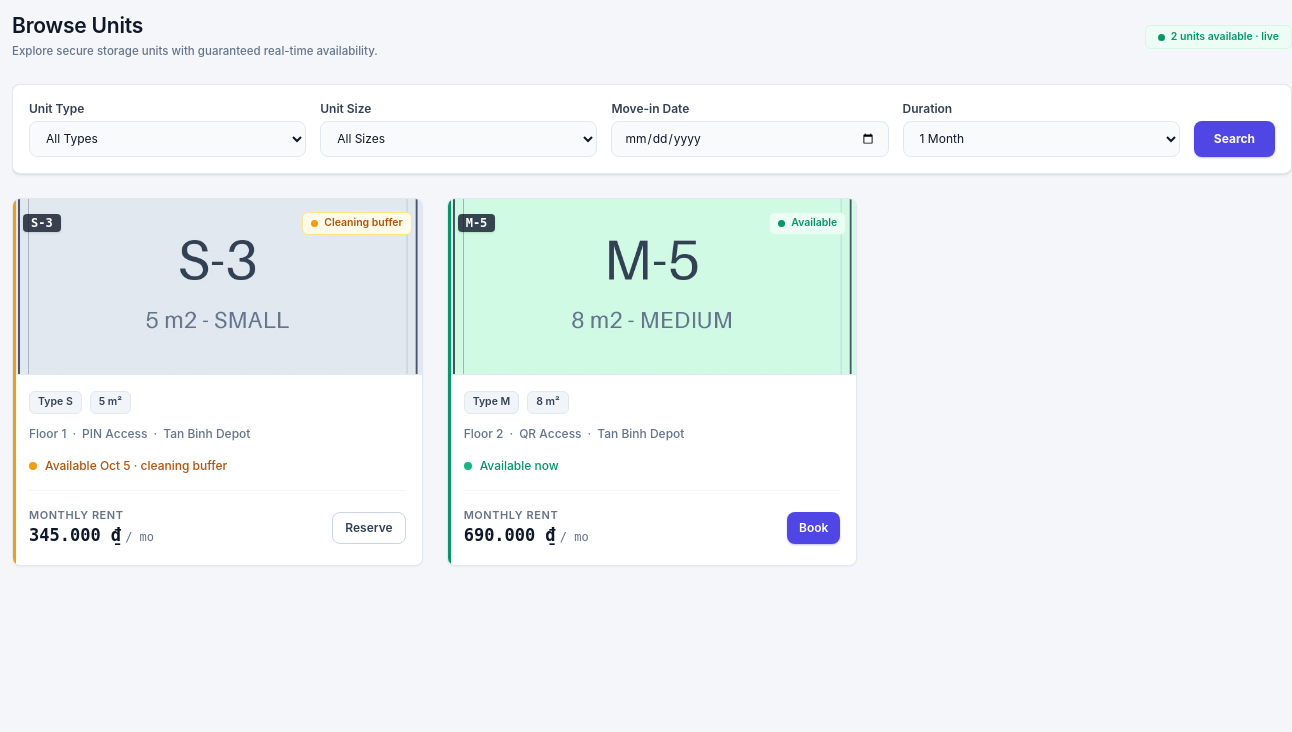
Test: Story 2.2: Browse Units & Turnover Buffer Availability › BrowseUnitsPage Rendering & Interactions › displays factual empty state with filter chips and Clear filters button when no units match
Expected: the element with test id "browse-units-grid" is shown, top-left (12, 198), bottom-right (857, 566)
// Select Locker
Select "Locker (0.5 m²)" in the dropdown with test id "filter-type-select": (168, 139) top-left (29, 121), bottom-right (306, 157)
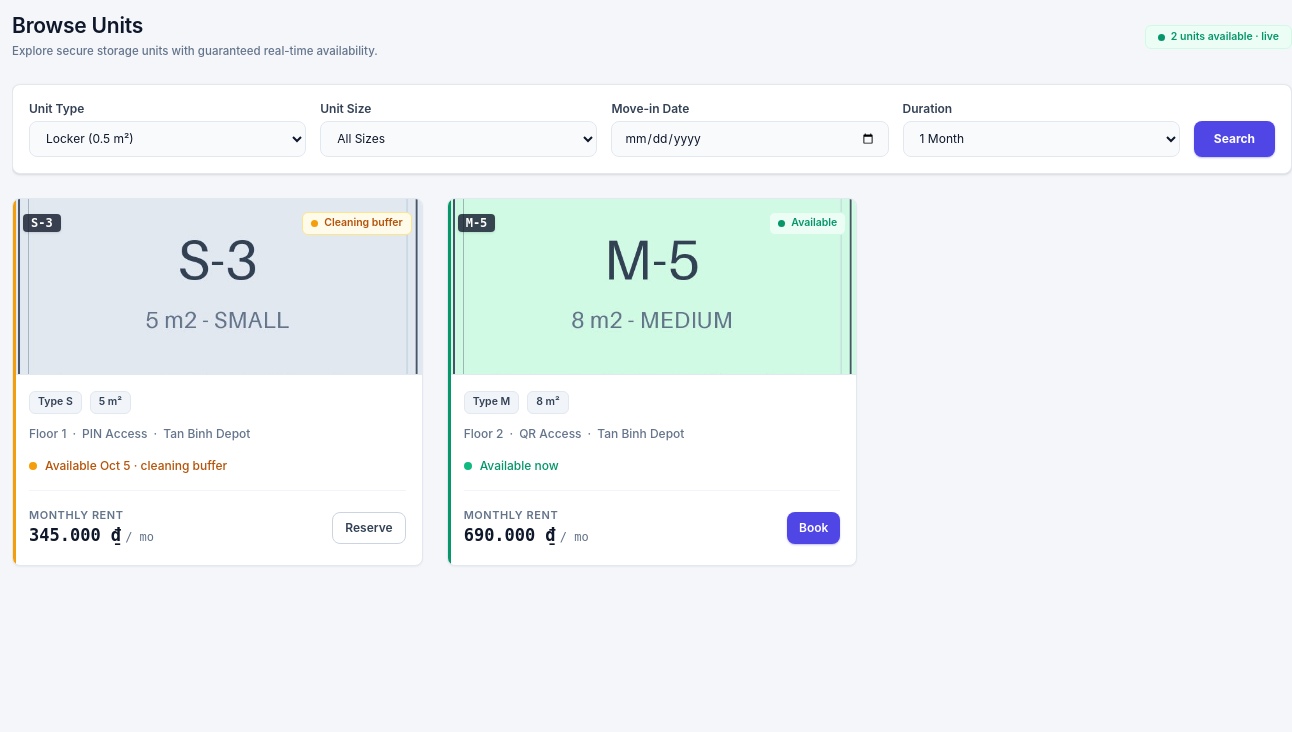
Click the button with test id "filter-search-btn": (1234, 139) top-left (1194, 121), bottom-right (1275, 157)
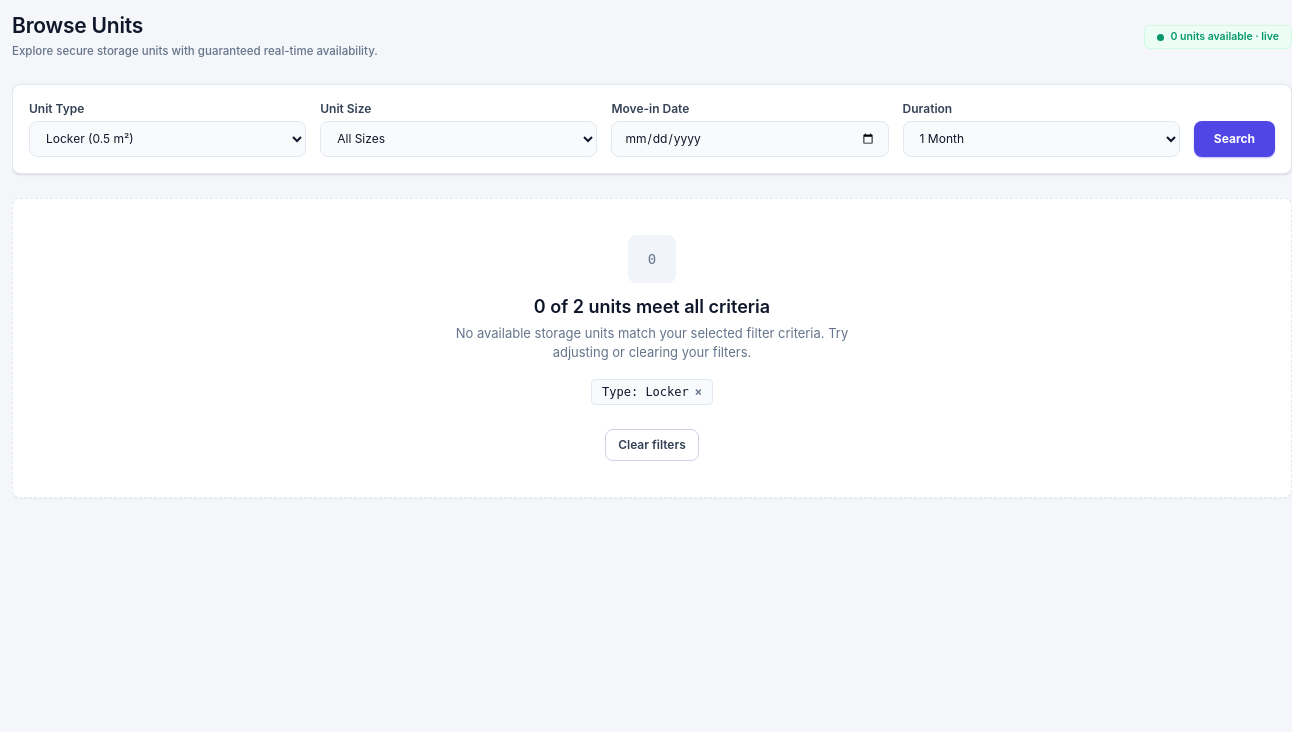
Expected: the element with test id "browse-empty-state" is shown, top-left (12, 198), bottom-right (1291, 498)
Expected: the heading "0 of 2 units meet all criteria" is shown, top-left (534, 295), bottom-right (770, 320)
Expected: the element with test id "filter-chip-type" shows "Type: Locker", top-left (591, 379), bottom-right (713, 405)
// Click Clear filters button
Click the button with test id "clear-filters-btn": (652, 445) top-left (605, 429), bottom-right (699, 461)
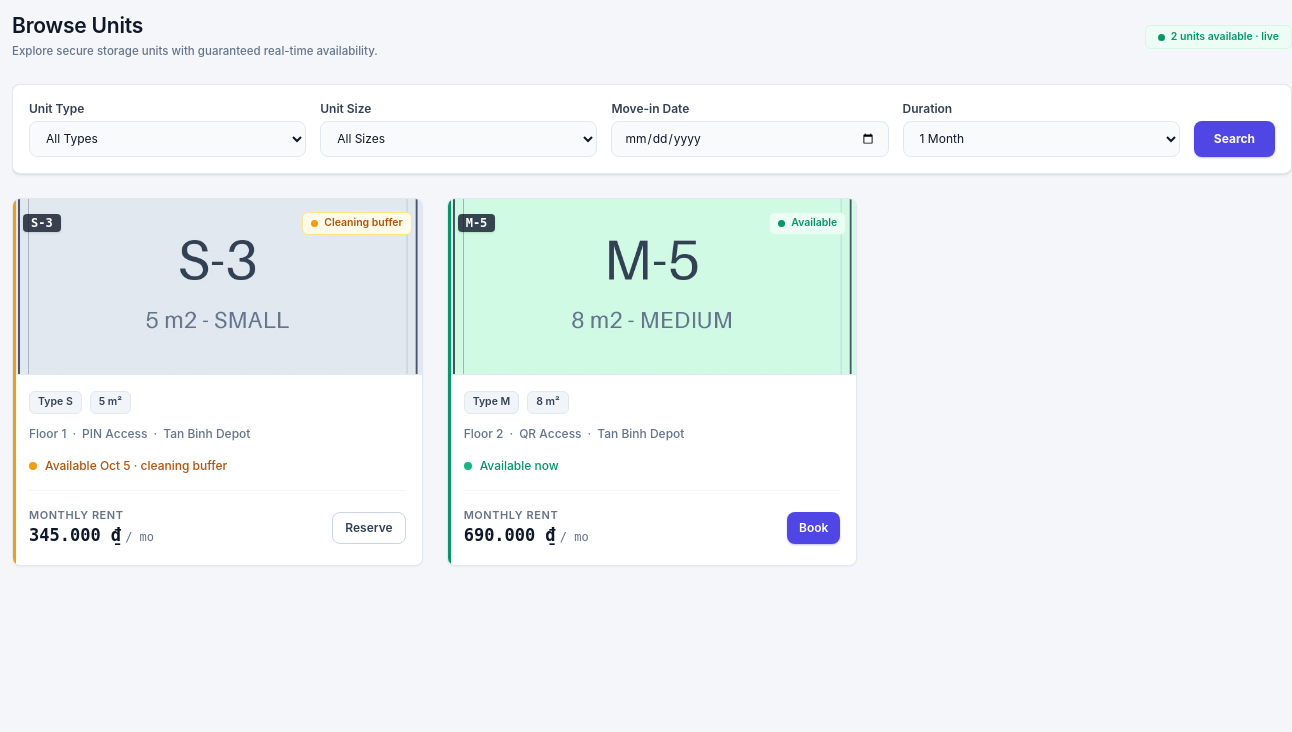
Expected: the element with test id "unit-card-S-3" is shown, top-left (12, 198), bottom-right (423, 566)
Expected: the element with test id "unit-card-M-5" is shown, top-left (447, 198), bottom-right (857, 566)
